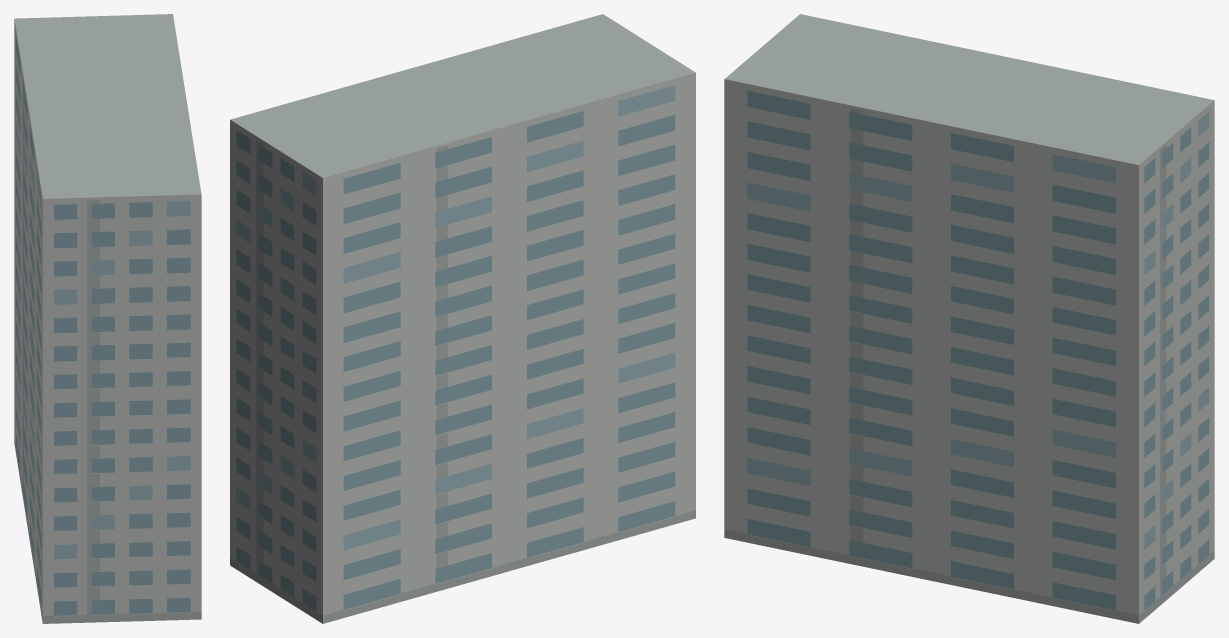
Rendered from residential-fe95bafd-06b0-4175-a1e0-7f9c4f9d6139.glb.
3 renders of one model, left to right at view 1: azimuth 30°, elevation 25°; view 2: azimuth 150°, elevation 25°; view 3: azimuth 270°, elevation 25°, orthographic. The views are drawn at different scales.
Parts seen in each view (by area): view 1: residential-fe95bafd-06b0-4175-a1e0-7f9c4f9d6139.tmp; view 2: residential-fe95bafd-06b0-4175-a1e0-7f9c4f9d6139.tmp; view 3: residential-fe95bafd-06b0-4175-a1e0-7f9c4f9d6139.tmp.
Part boxes in pixels (<box>): residential-fe95bafd-06b0-4175-a1e0-7f9c4f9d6139.tmp: <box>14,14,201,623</box>; residential-fe95bafd-06b0-4175-a1e0-7f9c4f9d6139.tmp: <box>230,14,695,623</box>; residential-fe95bafd-06b0-4175-a1e0-7f9c4f9d6139.tmp: <box>724,14,1214,623</box>.
Size of the model in its own units: 30.41 by 43 by 41.64.
